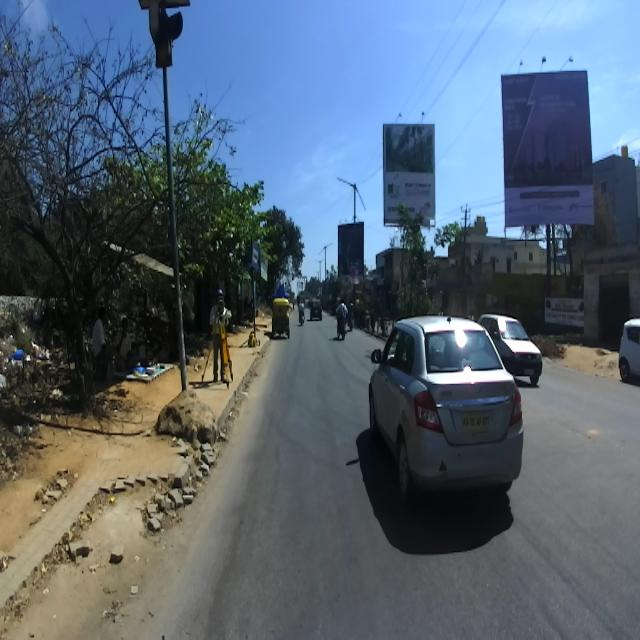auto ahead at: (268, 292, 293, 344)
car ahead at: (362, 308, 528, 504)
stones ahead at: (148, 482, 196, 534)
